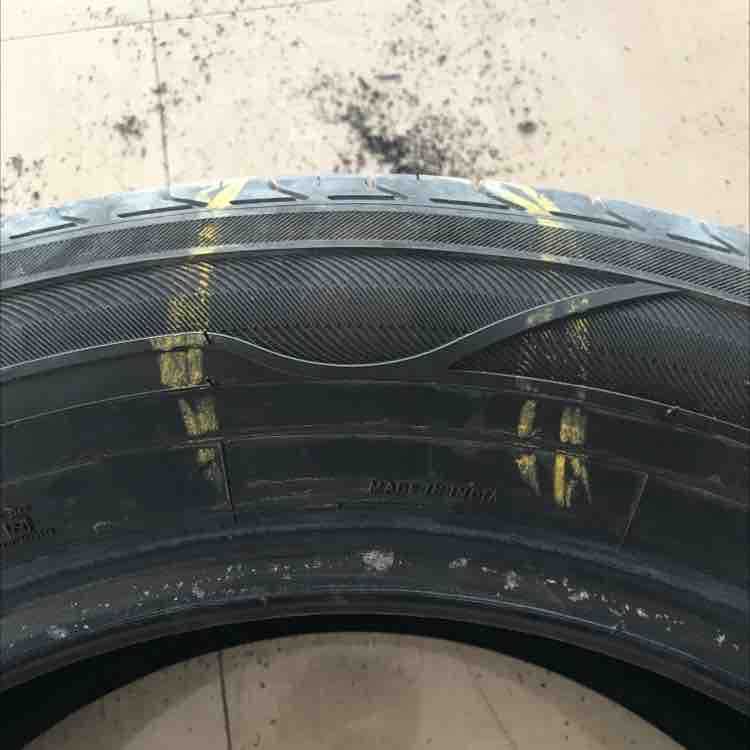CBU: (211, 236, 518, 366)
